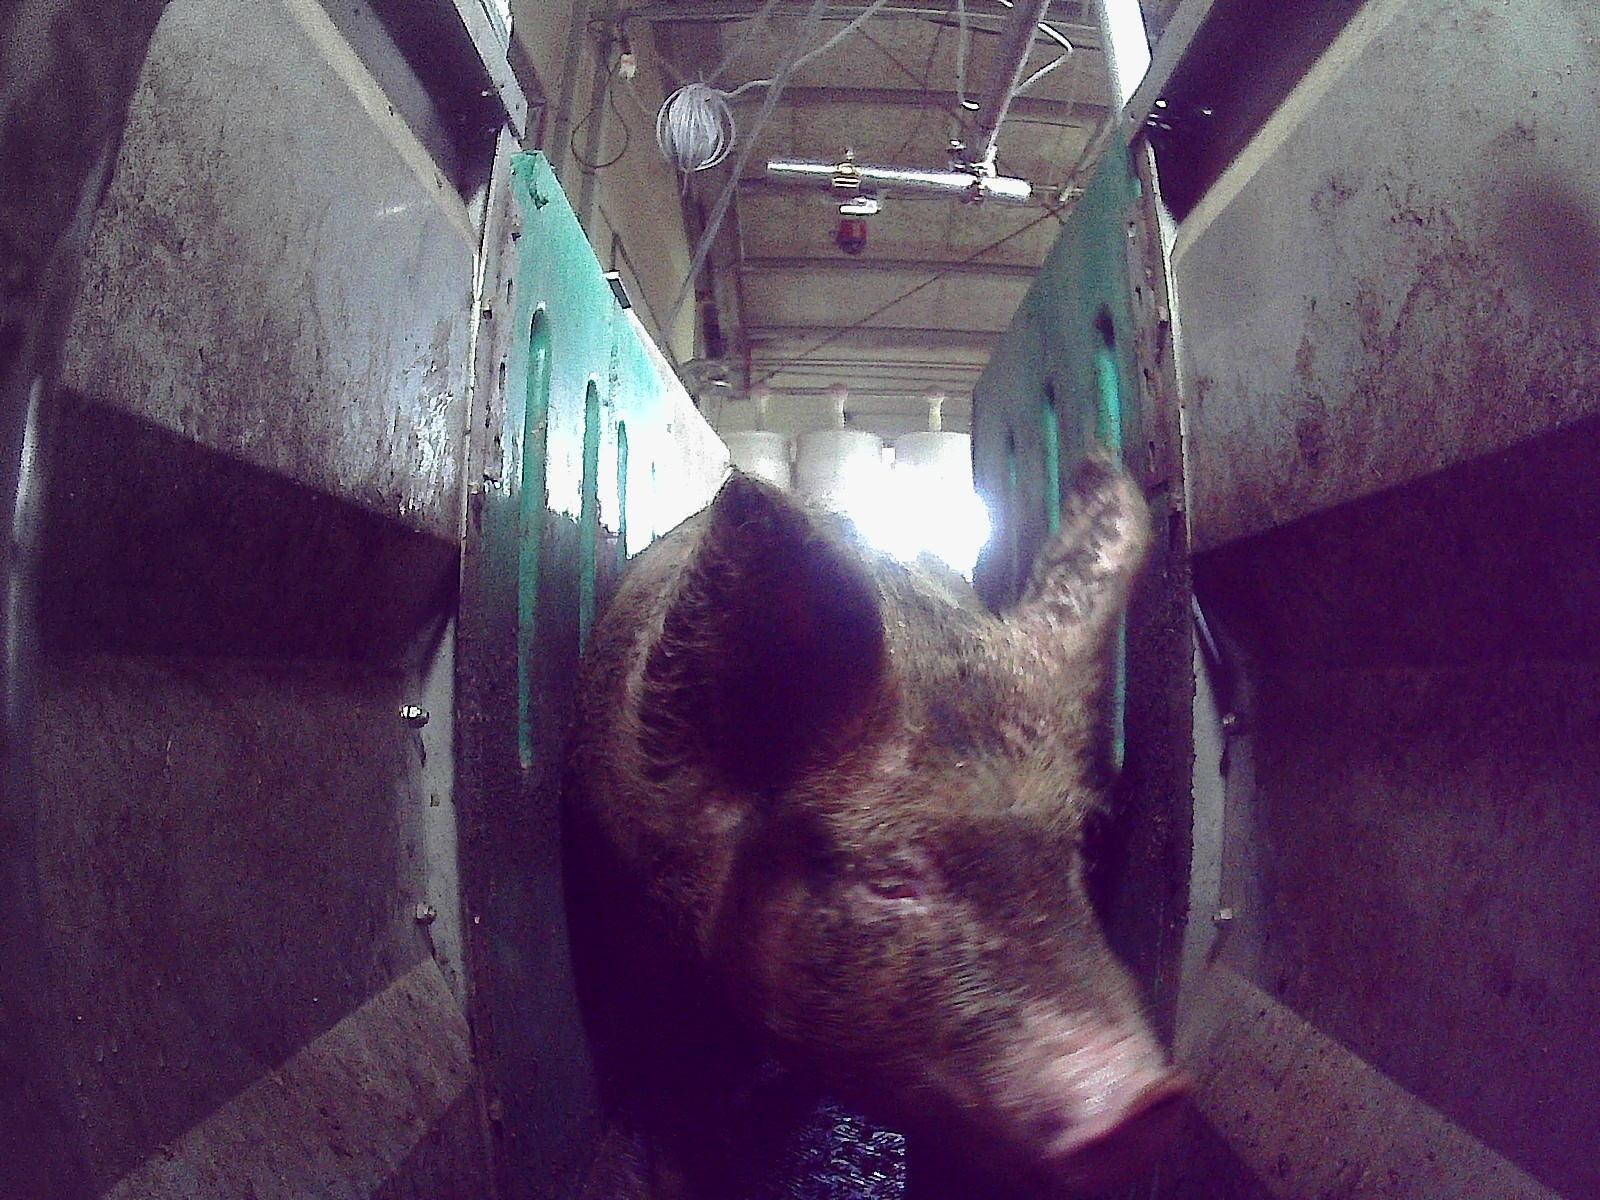Face: (690, 593, 1190, 1183)
